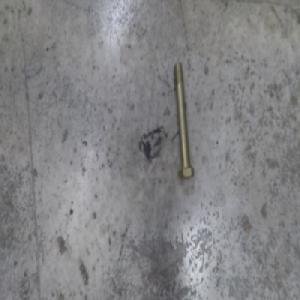Bolt: (172, 62, 193, 179)
